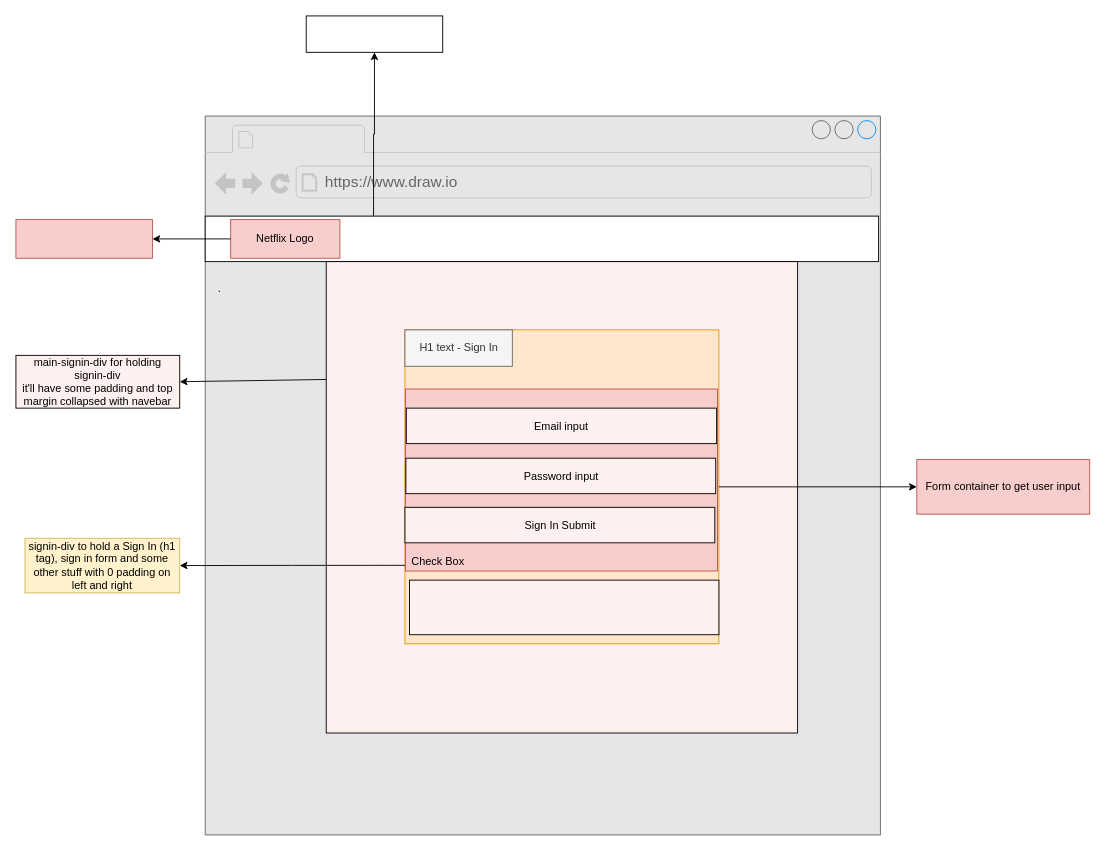
The diagram is 1106 pixels wide and 851 high, and some of its shapes have lost their labels. The shapes that lost their labels are listed below. From the top down, each one's centre as x and y in pixels, then its label:
point (374, 33): A nav-bar to hold logo
point (309, 138): Page 1
point (83, 238): A Logo (image with link) with margin on left
point (564, 607): Some Stuff
